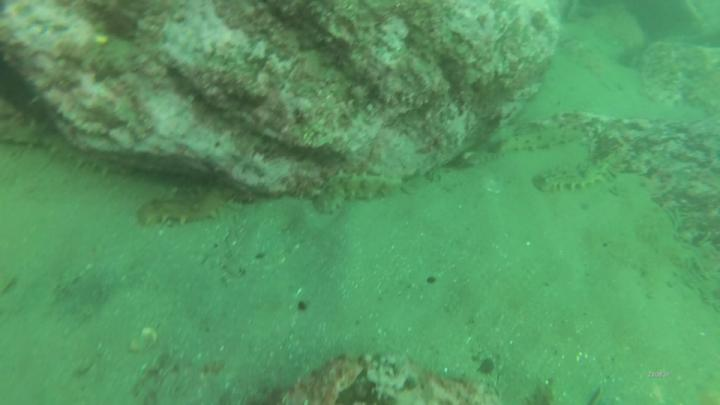holothurian: (4, 129, 138, 178), (139, 179, 243, 232), (537, 143, 632, 195), (312, 169, 405, 216), (494, 123, 592, 151)
